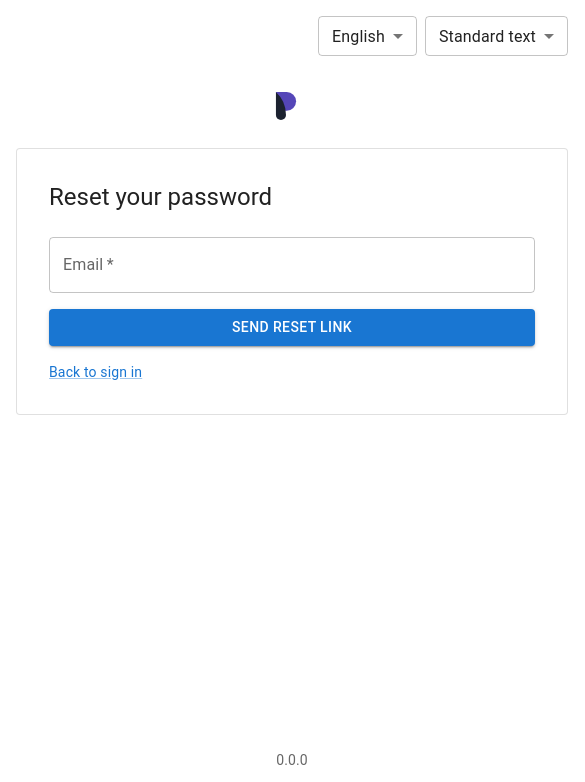
Test: ForgotPasswordPage, failing › says the server is out of reach when nothing answers
Type "mei@example.com" into the field labelled "Email".
click(292, 265); type("mei@example.com")  # box [49,237,535,293]
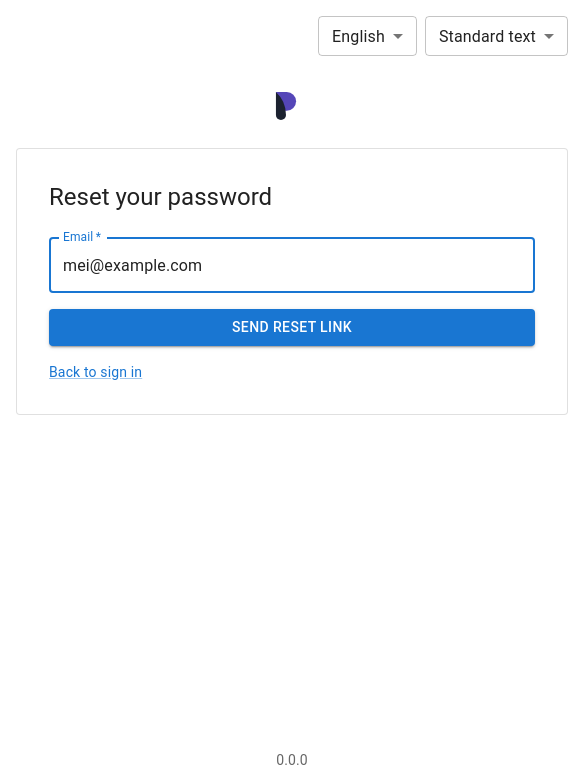
Click the button "Send reset link".
click(292, 327)  # box [49,309,535,346]
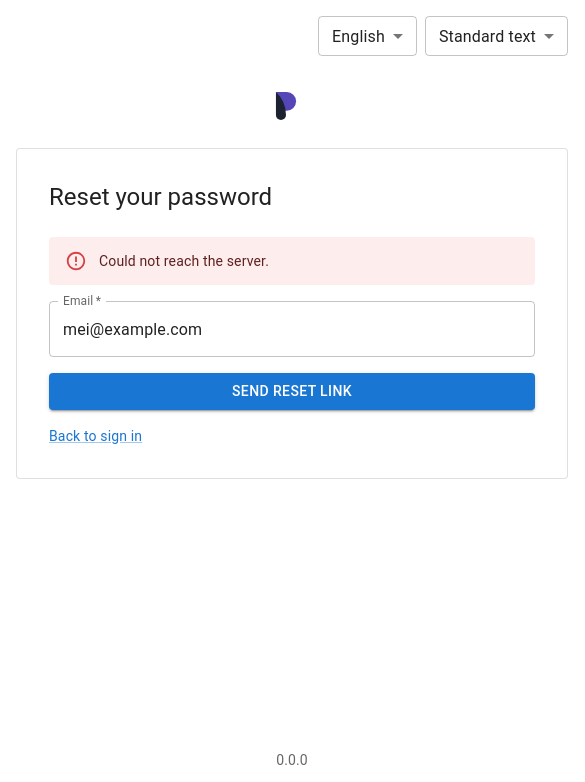
expect the text "Could not reach the server." is shown: met, box [99,253,269,269]
